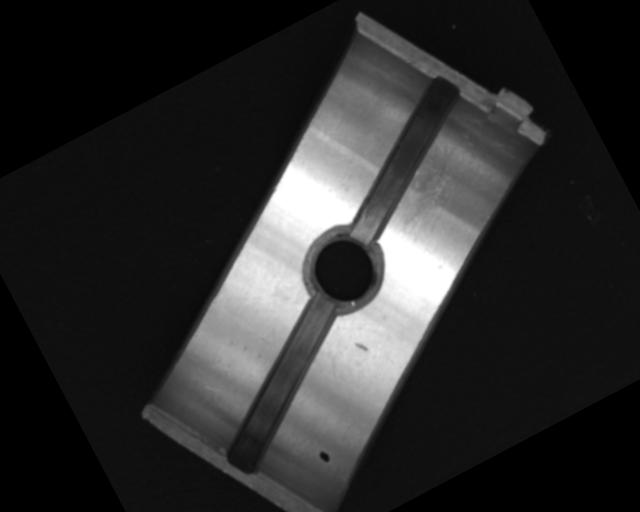blot: (316, 447, 331, 464)
bruise: (353, 337, 370, 355)
gap: (186, 293, 379, 474), (306, 70, 498, 246)
hole: (290, 215, 396, 323)
scratch: (370, 136, 480, 237)
